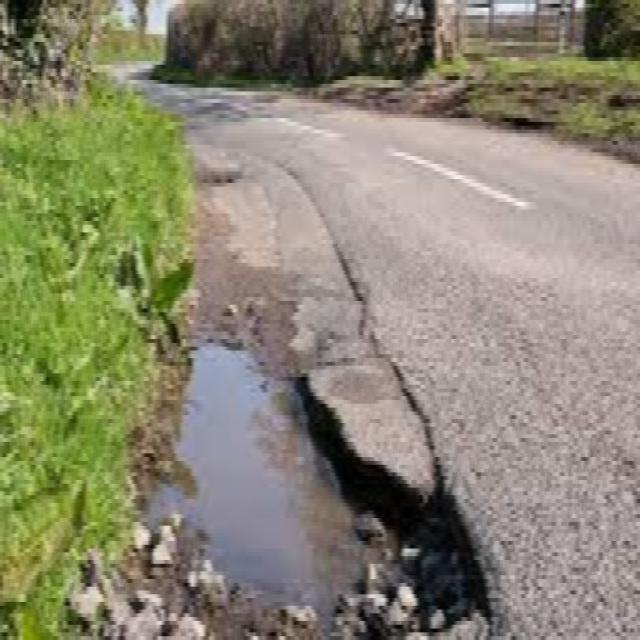Pothole: (141, 306, 491, 638)
